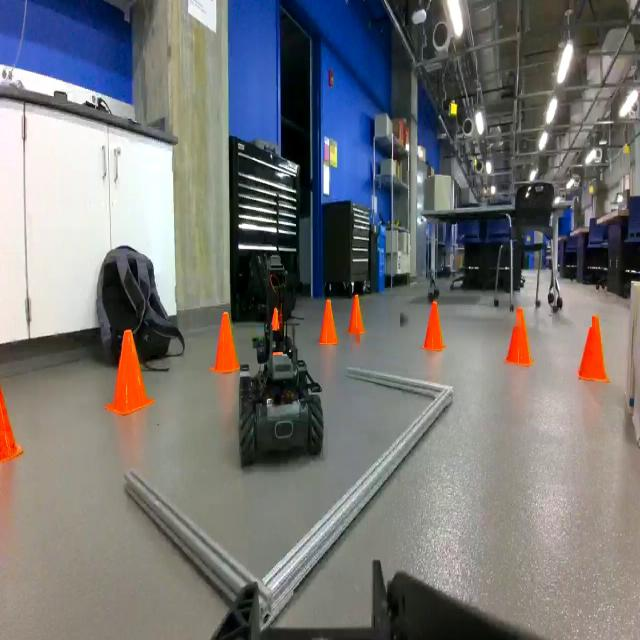cone: (102, 325, 156, 418), (573, 314, 613, 384), (209, 306, 240, 377), (503, 306, 536, 367), (421, 295, 447, 354), (346, 284, 369, 338), (318, 294, 339, 346)
metal barrier: (124, 362, 455, 631)
robot: (235, 251, 329, 470)
